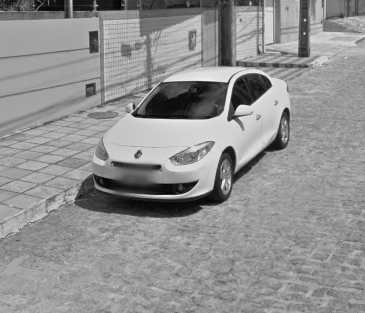car: (91, 64, 292, 204)
